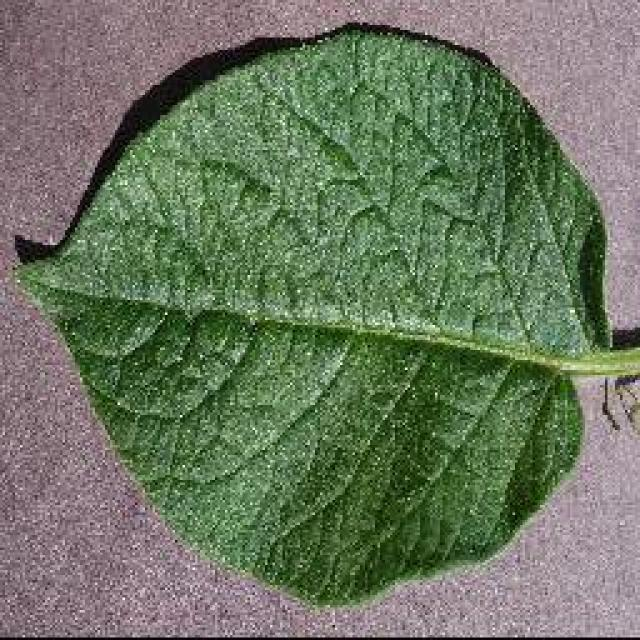Potato___healthy: (12, 21, 638, 621)
